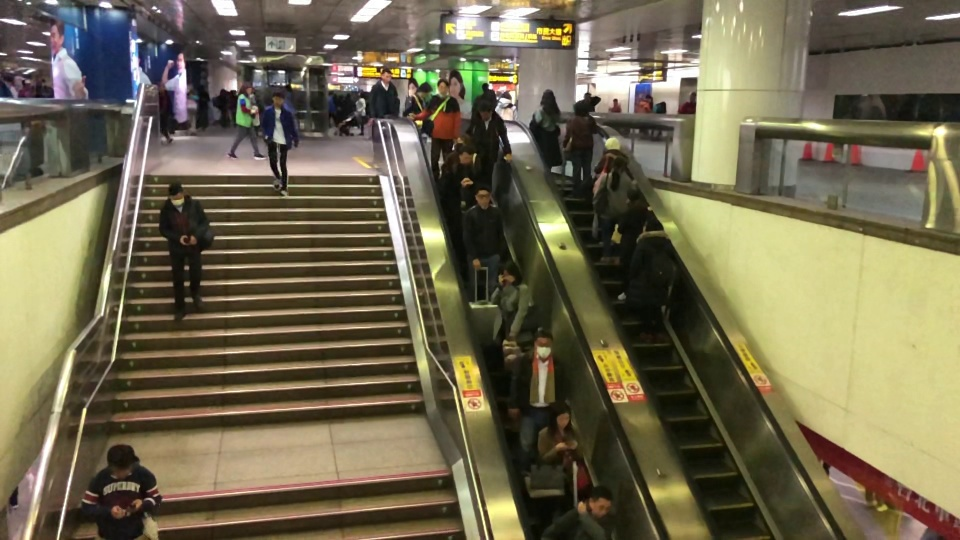person_head: (105, 443, 135, 478), (586, 484, 614, 519), (531, 330, 554, 361), (549, 400, 571, 429), (501, 260, 523, 286), (473, 183, 493, 210), (475, 99, 494, 121), (167, 184, 185, 207), (454, 133, 474, 152), (642, 217, 664, 234), (603, 136, 621, 155), (270, 89, 287, 109), (458, 145, 474, 165), (416, 81, 433, 98), (539, 89, 556, 106), (625, 184, 641, 202), (573, 100, 589, 118), (611, 156, 627, 172), (239, 81, 253, 98), (436, 78, 449, 95), (380, 68, 393, 83), (34, 69, 45, 86), (3, 76, 15, 89), (156, 80, 166, 92), (501, 90, 512, 100), (480, 82, 490, 92), (687, 90, 696, 101), (21, 79, 30, 88), (643, 94, 652, 103), (197, 84, 205, 94), (218, 87, 226, 97), (357, 90, 364, 98), (583, 92, 591, 99), (659, 101, 666, 109), (188, 88, 195, 95), (345, 93, 351, 101), (328, 90, 334, 97), (229, 89, 235, 96), (612, 98, 618, 105)
person_vbox: (505, 330, 568, 476), (79, 444, 162, 540), (158, 183, 209, 323), (435, 144, 492, 265), (624, 217, 676, 344), (535, 400, 584, 532), (406, 78, 461, 181), (461, 183, 504, 304), (540, 484, 628, 540), (595, 156, 637, 265), (259, 89, 300, 198), (615, 184, 653, 301), (465, 99, 512, 192), (561, 100, 598, 200), (489, 260, 534, 341), (225, 81, 267, 161), (528, 89, 562, 171), (366, 67, 400, 127), (402, 81, 433, 143), (440, 133, 482, 177), (593, 136, 628, 176), (156, 79, 175, 144), (471, 81, 497, 113), (494, 90, 519, 121), (18, 79, 33, 130), (28, 69, 54, 98), (634, 94, 652, 135), (196, 84, 210, 133), (341, 93, 355, 136), (187, 88, 199, 136), (355, 90, 367, 136), (651, 101, 666, 136), (216, 87, 228, 129), (677, 90, 696, 114), (327, 90, 337, 129), (583, 91, 601, 112), (228, 89, 237, 127), (3, 76, 18, 98), (608, 98, 622, 112)
